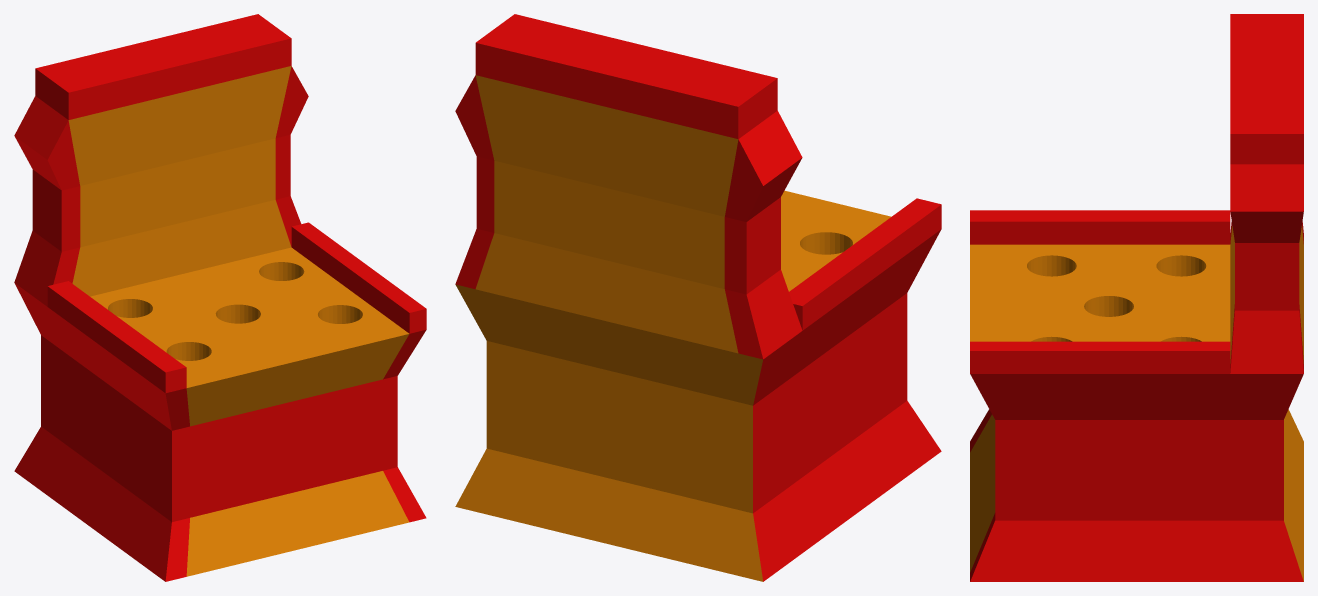
Rendered from TableMole.glb.
The picture shows the model from 3 angles, left to right: view 1: azimuth 30°, elevation 25°; view 2: azimuth 150°, elevation 25°; view 3: azimuth 270°, elevation 25°; orthographic projection. The views are drawn at different scales.
Visible parts, largest first — view 1: MoleTable; view 2: MoleTable; view 3: MoleTable.
Boxes of the visible parts, x1=… form: MoleTable: x1=14, y1=14, x2=426, y2=581; MoleTable: x1=455, y1=14, x2=941, y2=581; MoleTable: x1=970, y1=14, x2=1303, y2=581.
Bounding box in the file's own units: 12.71 × 18.5 × 12.75.
